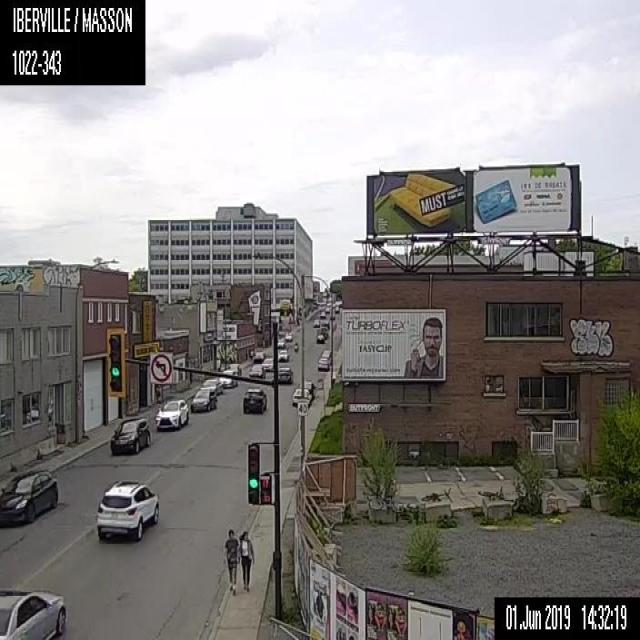pedestrian: (238, 526, 255, 593), (223, 527, 240, 593)
vehicle: (94, 477, 160, 540), (0, 585, 66, 638), (0, 466, 57, 522), (109, 416, 151, 455), (154, 396, 188, 432), (241, 386, 267, 414), (190, 386, 217, 412), (290, 387, 312, 407), (199, 377, 222, 396), (218, 369, 237, 388), (275, 366, 293, 384), (299, 381, 316, 398), (248, 362, 264, 378), (227, 361, 242, 378), (260, 356, 273, 372), (252, 348, 264, 362), (277, 348, 289, 362), (317, 356, 328, 370), (321, 349, 332, 361), (292, 340, 300, 353), (276, 337, 285, 348), (312, 316, 320, 327), (284, 330, 292, 341), (316, 332, 324, 343), (319, 310, 325, 318), (334, 304, 339, 312), (324, 306, 329, 312)
